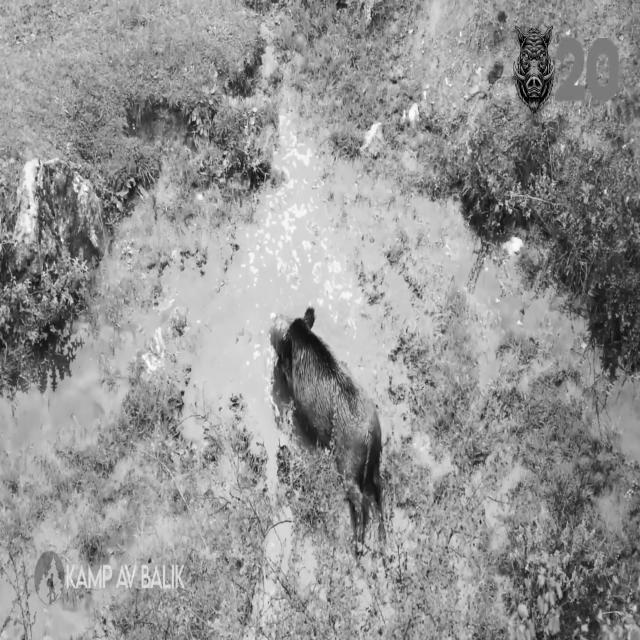boar: (269, 306, 382, 550)
